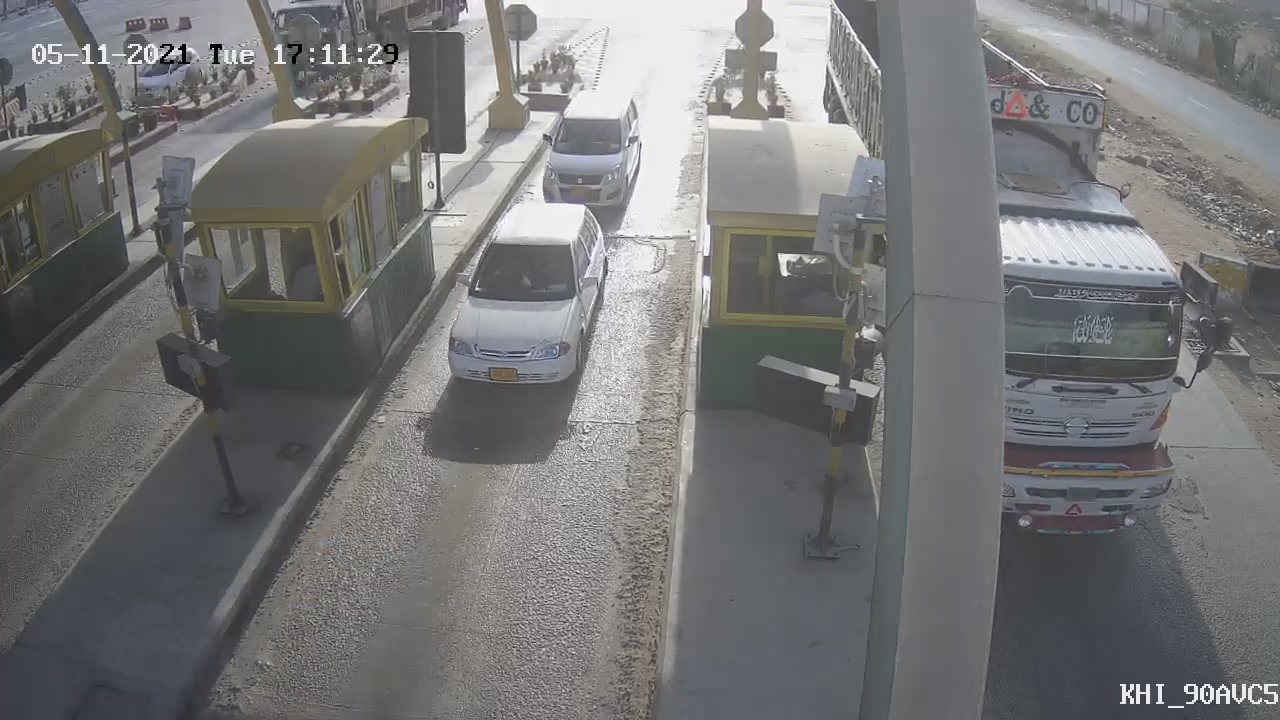F1: (426, 186, 627, 405), (521, 78, 661, 224)
